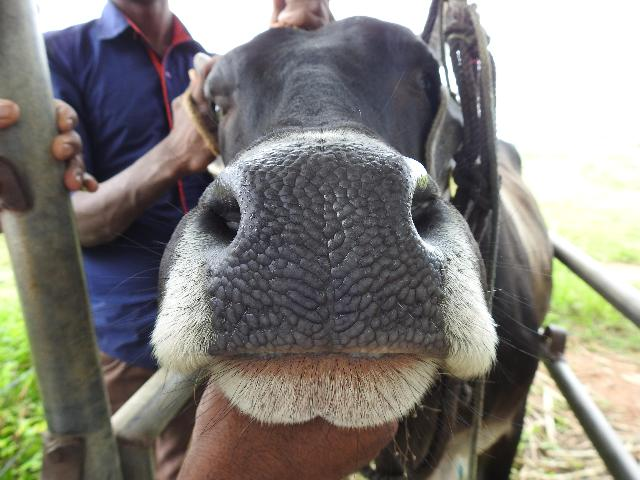Muzzle: (246, 157, 408, 347)
